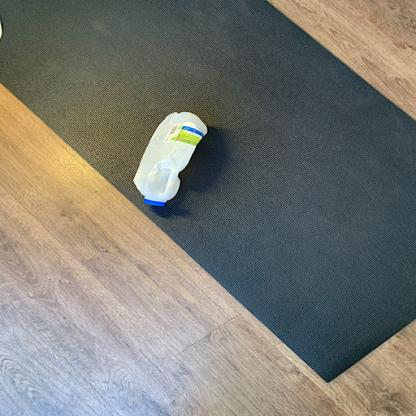trash: (130, 110, 214, 207)
